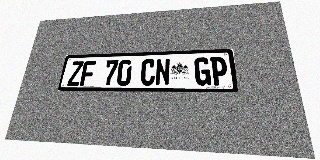0: (116, 60, 132, 86)
7: (102, 60, 119, 86)
C: (140, 59, 156, 86)
F: (80, 61, 96, 86)
G: (194, 57, 211, 85)
N: (155, 58, 170, 86)
P: (210, 57, 228, 85)
Z: (67, 61, 84, 86)
